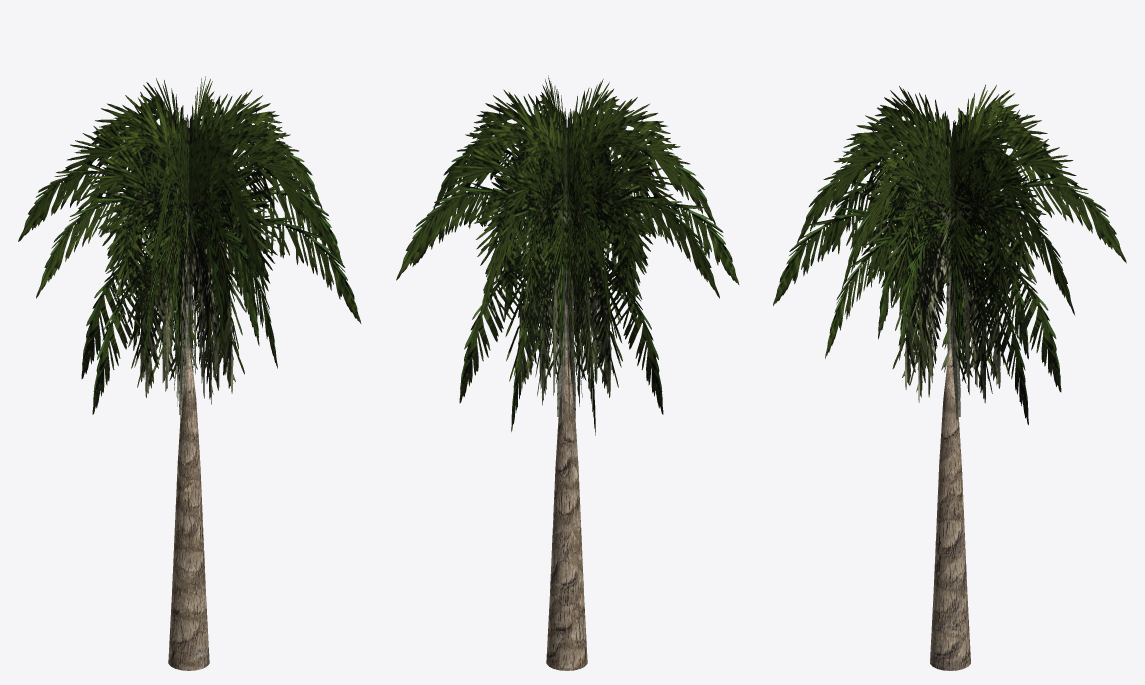
File: palm.FBX
3 renders of one model, left to right at view 1: azimuth 30°, elevation 25°; view 2: azimuth 150°, elevation 25°; view 3: azimuth 270°, elevation 25°, orthographic.
Visible parts, largest first — view 1: palm; view 2: palm; view 3: palm.
Part boxes in pixels (bbox=[...]): palm: bbox=[18, 76, 361, 670]; palm: bbox=[396, 75, 739, 670]; palm: bbox=[773, 84, 1126, 670].
Size of the model in its own units: 100 by 175 by 100.
